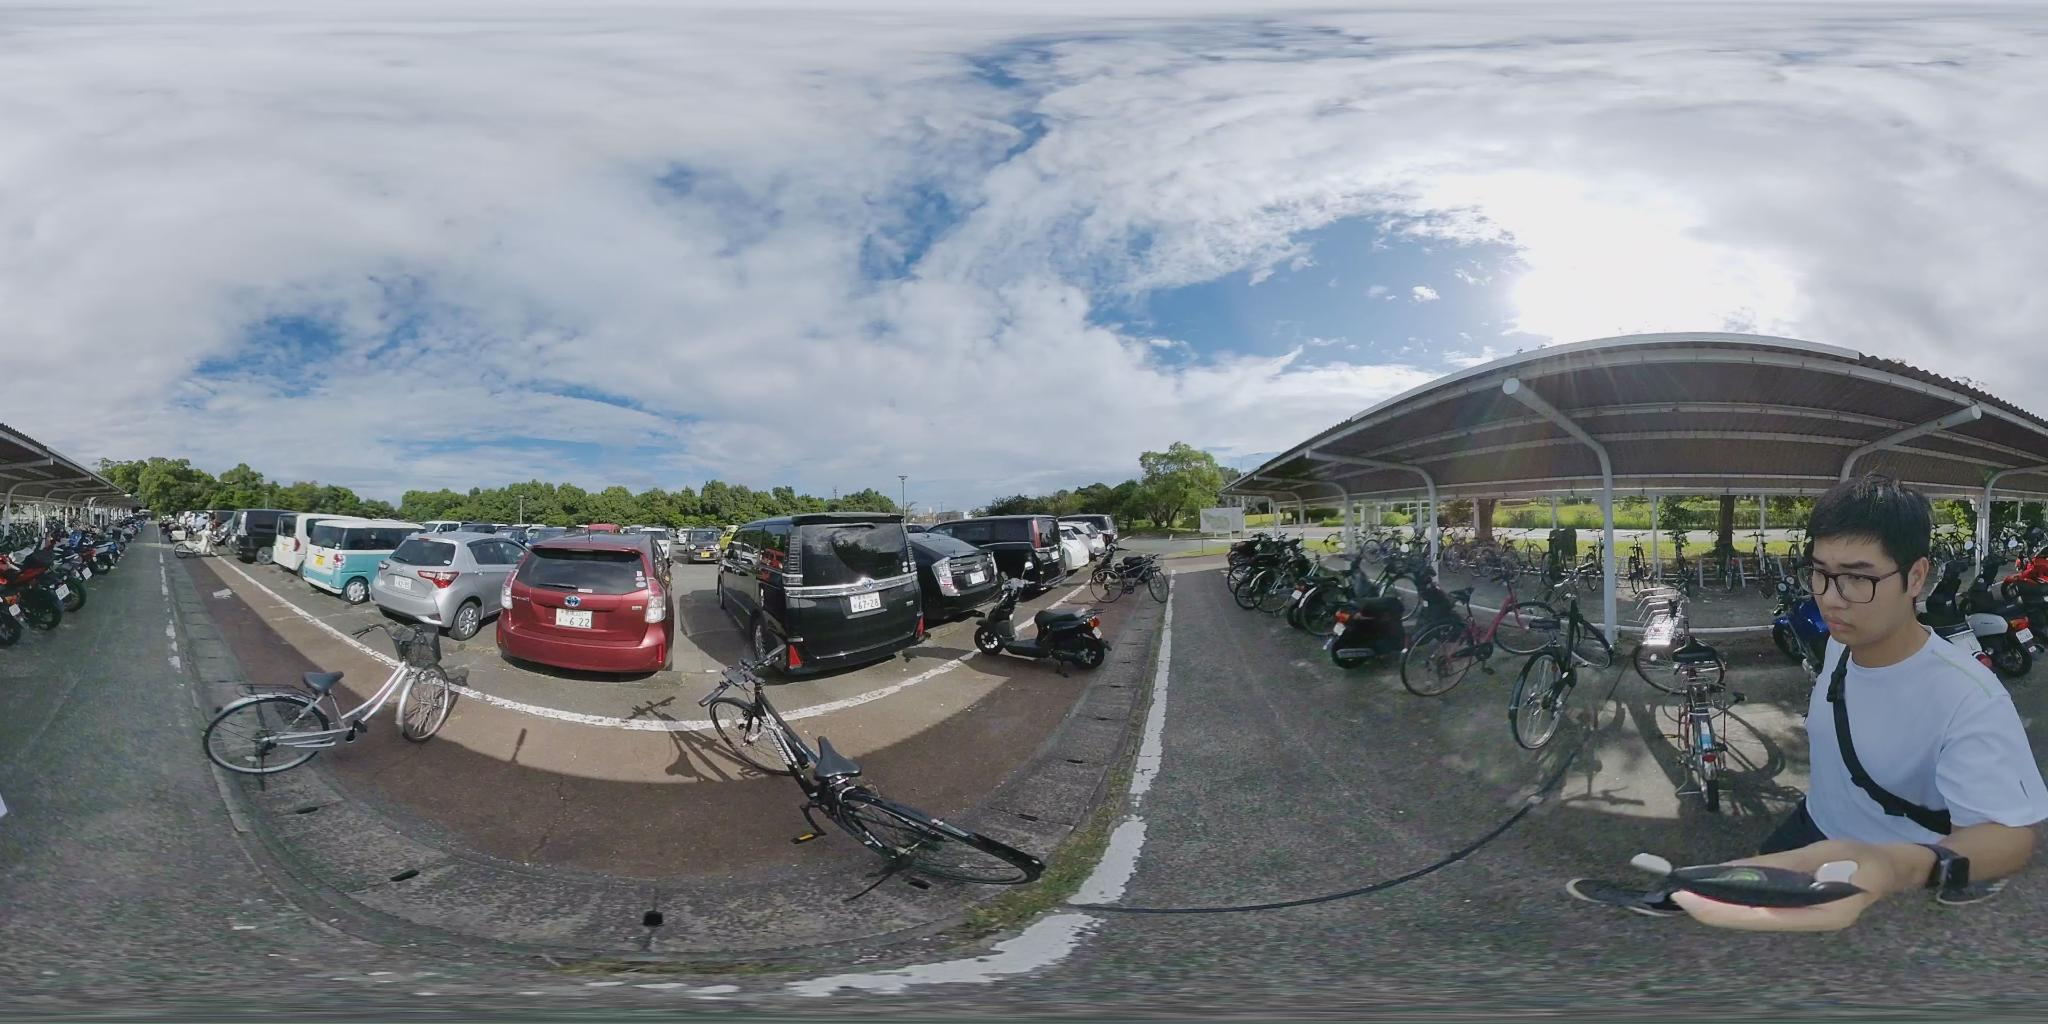car: (716, 519, 930, 669), (507, 536, 678, 679), (371, 529, 541, 640), (299, 521, 431, 600), (934, 517, 1074, 583)
